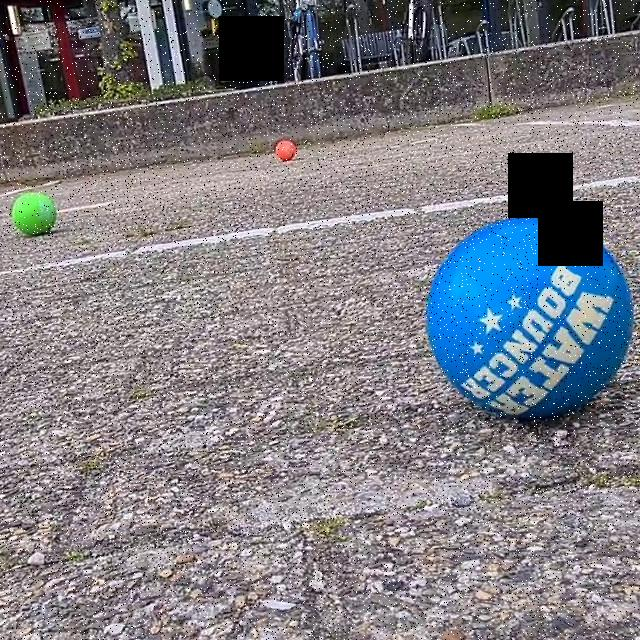ball: (10, 192, 58, 236), (274, 138, 295, 163)
